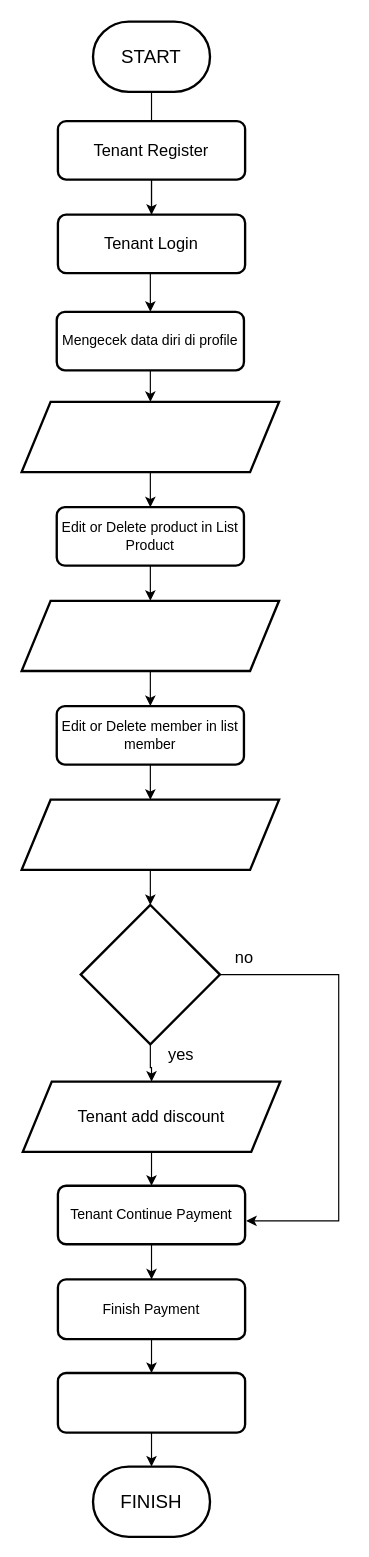
The diagram is 369 pixels wide and 1557 high, and some of its shapes have lost their labels. The centre of each missing label's shape, as x and y in pixels:
"Add Member in list member" belongs at [150,635].
"Add Product in list product" belongs at [150,436].
"Customer is member ?" belongs at [150,974].
"Tenant add product to cart" belongs at [150,834].
"Tenant Check Sales Report" belongs at [151,1402].
